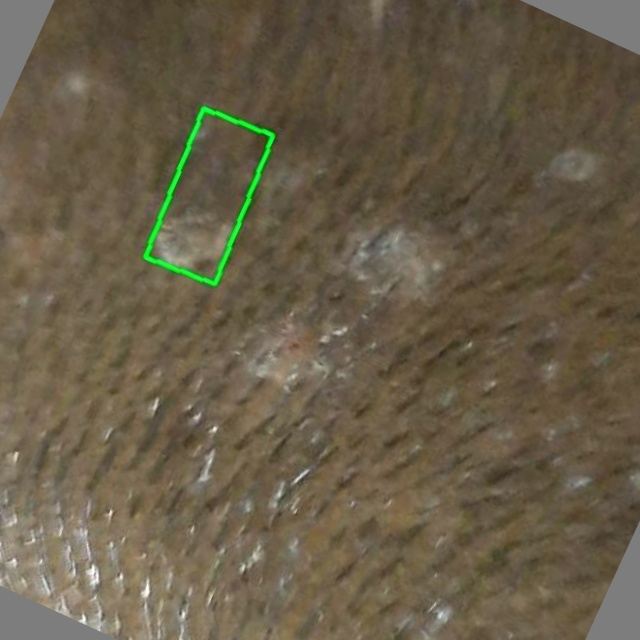Seborrheic Dermatitis: (145, 107, 272, 283)
